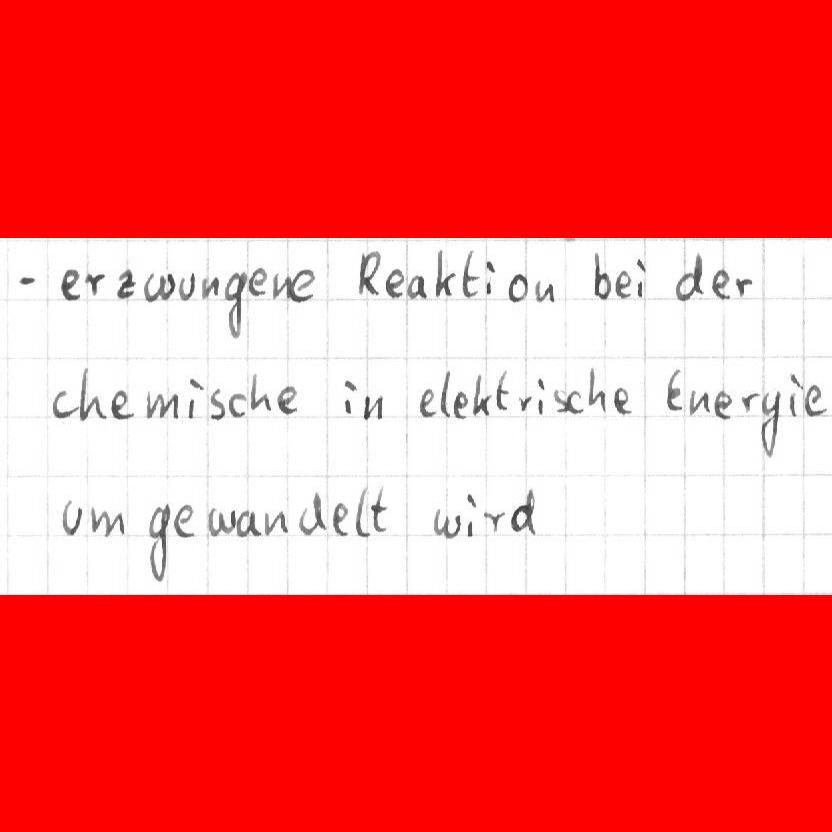Char: (143, 505, 170, 578), (672, 252, 705, 302), (758, 388, 782, 455), (509, 486, 538, 539), (78, 365, 104, 422), (225, 270, 245, 340), (298, 490, 326, 537), (434, 244, 456, 301), (357, 248, 381, 298), (141, 268, 175, 303), (90, 505, 124, 538), (592, 248, 612, 301), (146, 389, 179, 421), (460, 247, 479, 300), (60, 498, 84, 538), (472, 369, 492, 416), (371, 483, 389, 535), (249, 371, 271, 413), (587, 367, 607, 412), (433, 505, 459, 539), (493, 370, 513, 414), (354, 485, 370, 537), (275, 383, 301, 415), (664, 369, 683, 412), (50, 387, 74, 421), (208, 505, 234, 536), (58, 266, 81, 301), (293, 267, 316, 302), (710, 267, 733, 300), (175, 503, 197, 537), (184, 375, 201, 419), (237, 507, 261, 538), (463, 490, 478, 539), (271, 268, 293, 301), (506, 270, 528, 303), (110, 389, 134, 419), (247, 266, 268, 299), (114, 266, 135, 299), (788, 372, 803, 417), (384, 267, 405, 299), (805, 383, 823, 419), (332, 502, 351, 536), (360, 393, 383, 421), (533, 276, 556, 304), (341, 376, 357, 415), (263, 510, 287, 536), (176, 270, 196, 301), (688, 388, 710, 416), (406, 271, 427, 300), (560, 387, 581, 415), (84, 269, 104, 298), (208, 388, 226, 420), (483, 507, 504, 534), (612, 384, 629, 417), (419, 387, 437, 417), (440, 371, 452, 416), (200, 272, 220, 299), (715, 390, 733, 419), (635, 257, 647, 299), (740, 388, 760, 413), (228, 393, 247, 419), (734, 273, 754, 297), (484, 258, 496, 297), (454, 390, 470, 419), (535, 377, 547, 414), (16, 271, 39, 288), (616, 270, 630, 297), (519, 391, 533, 413)
